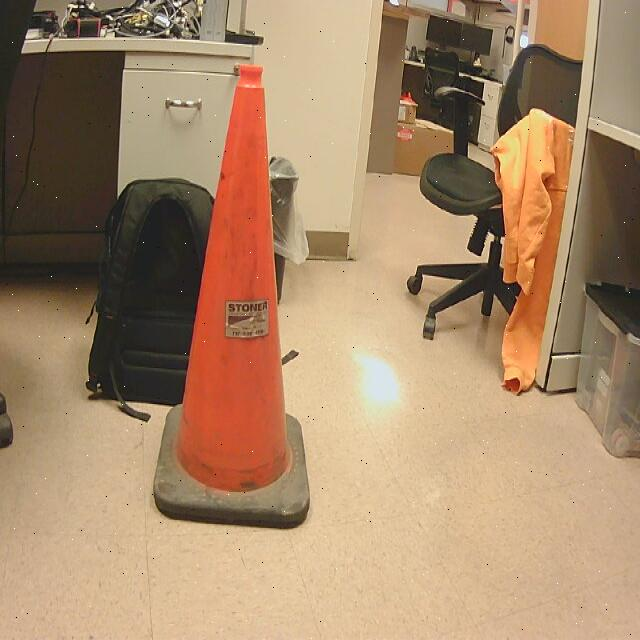traffic cone: (153, 64, 310, 532)
